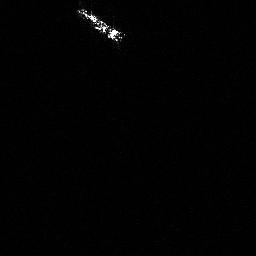ship: (74, 4, 127, 45)
